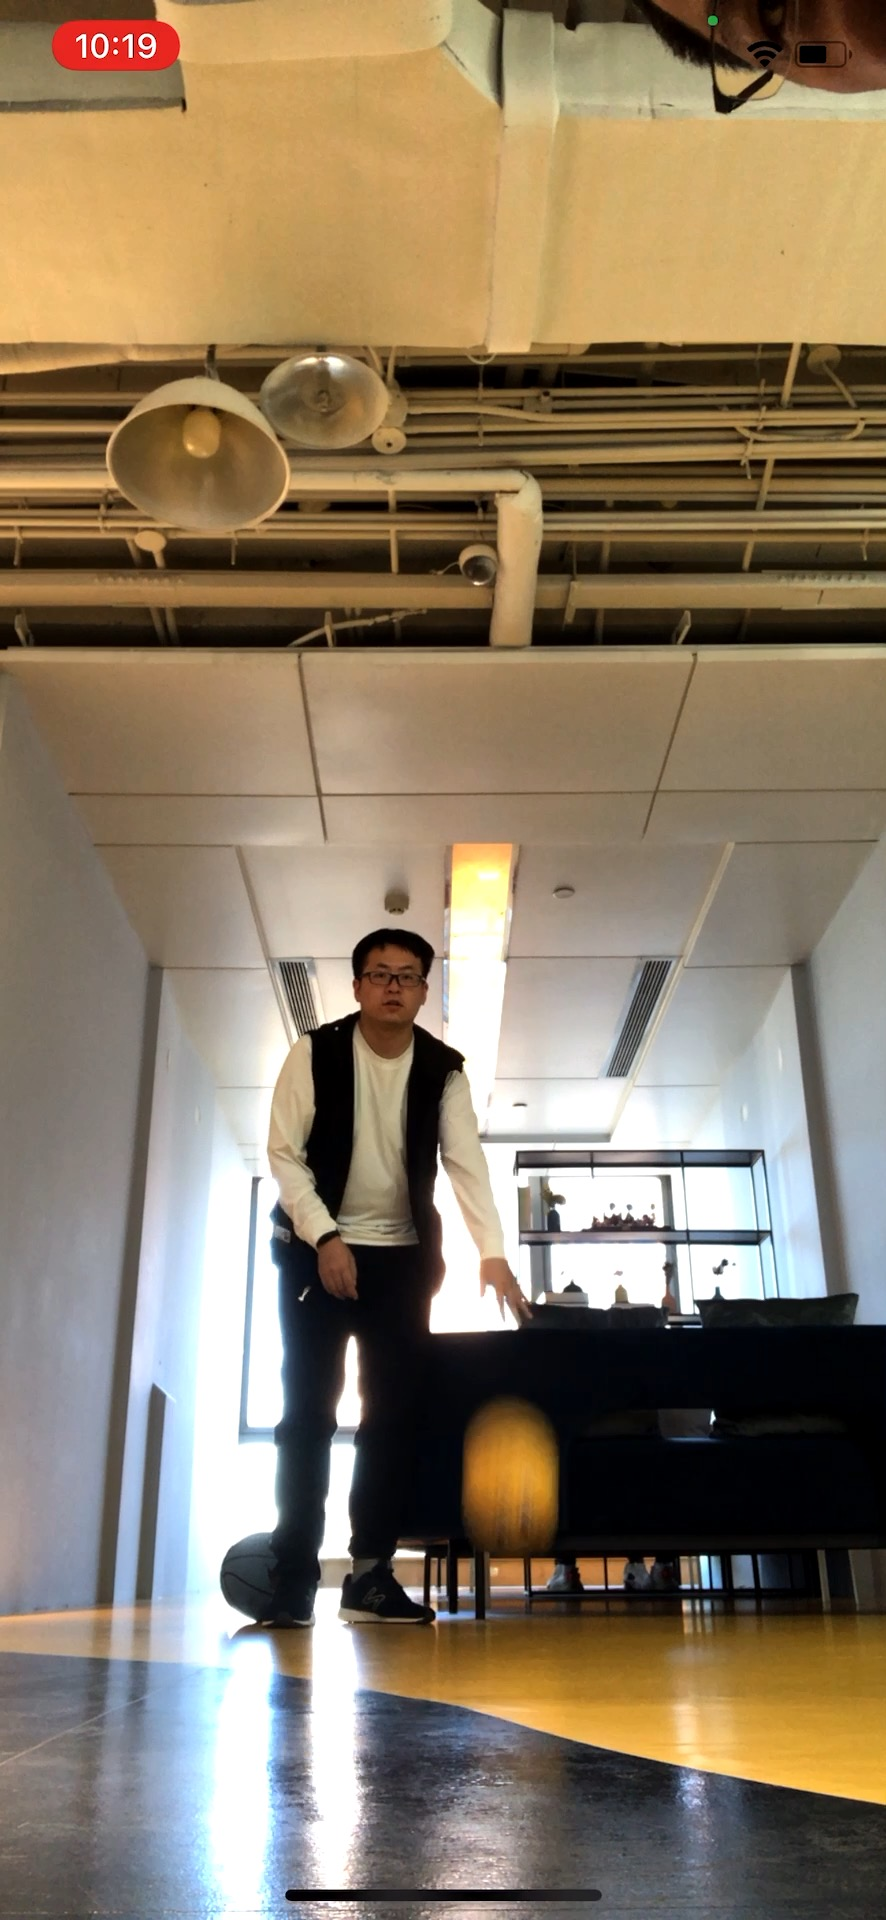ball: (459, 1402, 553, 1549), (223, 1531, 274, 1621)
